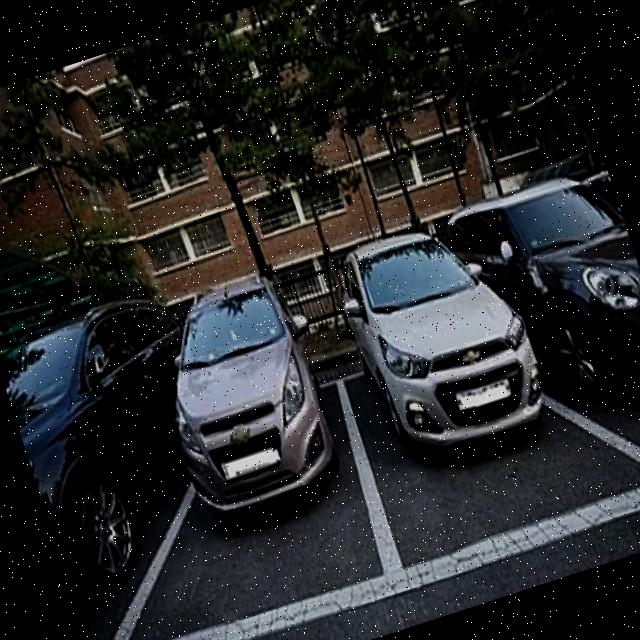occupied: (290, 180, 616, 578), (118, 245, 394, 618), (0, 276, 247, 634), (432, 148, 640, 513)
